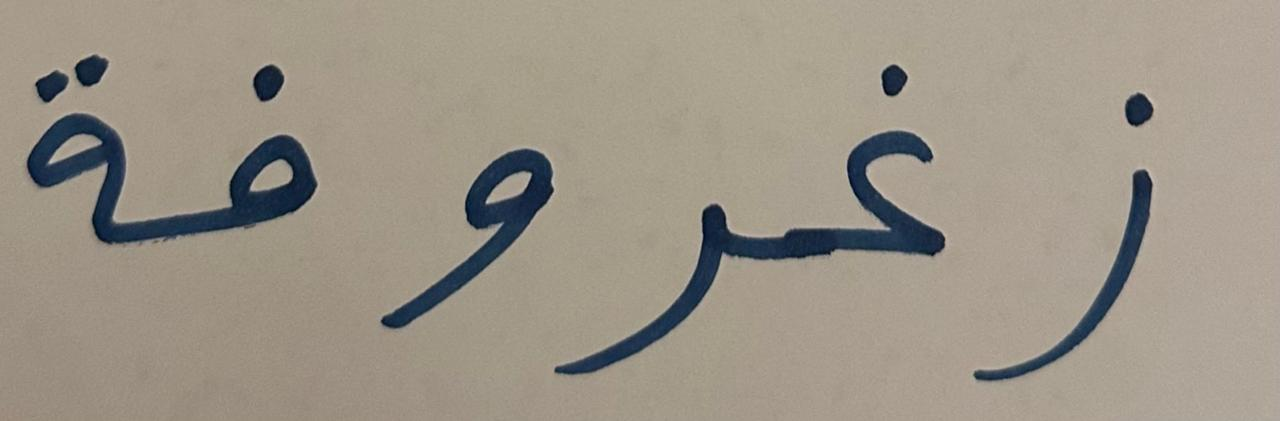feh: (153, 29, 333, 300)
ghain: (773, 12, 960, 371)
hamza: (963, 42, 1218, 406)
sad: (567, 95, 768, 404)
thal: (4, 19, 149, 312)
yeh: (338, 65, 560, 355)
